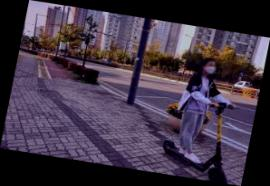nonhelmet: (156, 53, 252, 184)
